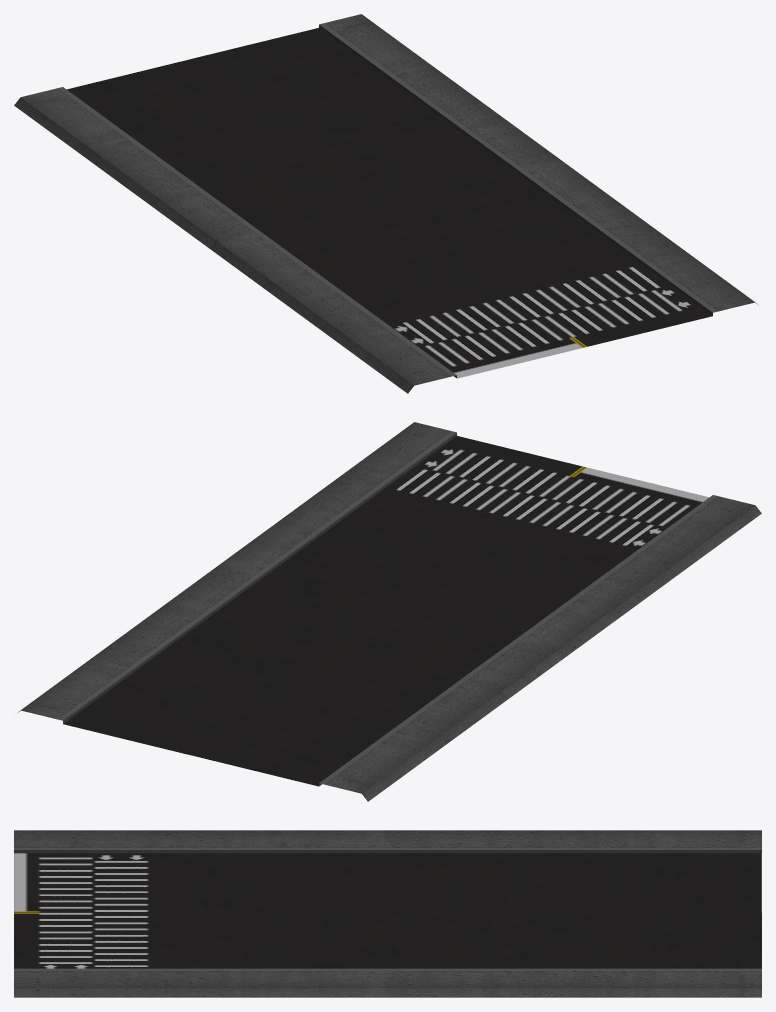
Rendered from RJs_Road 3+3 Basic Node.fbx.
3 views of the same model, one above another, from view 1: azimuth 30°, elevation 25°; view 2: azimuth 150°, elevation 25°; view 3: azimuth 270°, elevation 25° (orthographic). The views are drawn at different scales.
Parts seen in each view (by area): view 1: plane; view 2: plane; view 3: plane.
Boxes of the visible parts, bbox=[...] form: plane: bbox=[14, 14, 757, 393]; plane: bbox=[18, 422, 761, 801]; plane: bbox=[14, 830, 761, 997].
Bounding box in the file's own units: 3320 × 60.1 × 6400.
